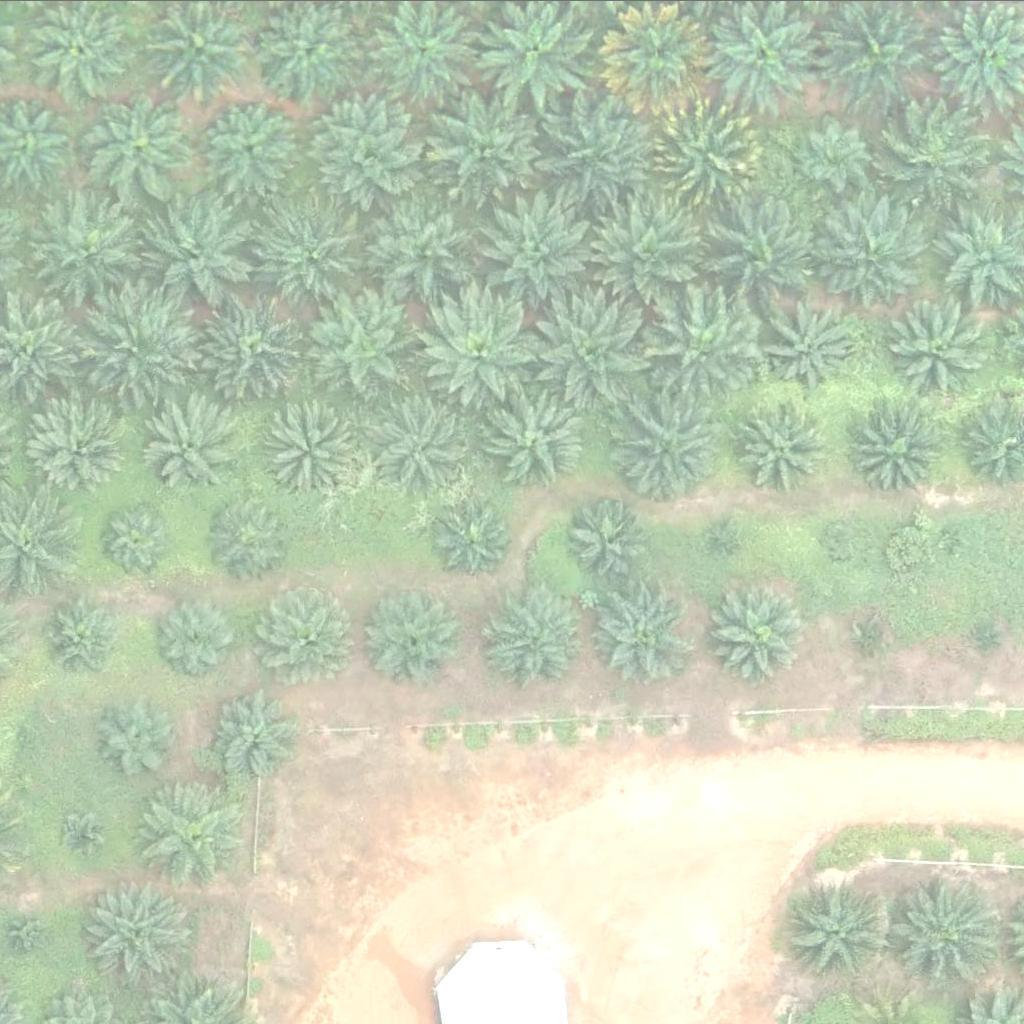Kelapa_Sawit: (610, 391, 724, 504), (81, 287, 194, 400), (198, 286, 311, 399), (29, 190, 142, 303), (143, 193, 256, 306), (254, 199, 367, 312), (369, 191, 482, 304), (309, 91, 422, 204), (423, 88, 536, 201), (541, 89, 654, 202), (651, 98, 764, 211), (821, 1, 934, 114), (135, 777, 249, 889), (538, 292, 652, 404), (708, 198, 822, 310), (811, 194, 925, 306), (644, 289, 758, 401), (85, 876, 198, 988), (307, 292, 420, 404), (428, 293, 541, 405), (480, 190, 593, 302), (83, 87, 196, 199), (595, 201, 708, 313), (888, 873, 1001, 985), (482, 591, 583, 691), (31, 399, 132, 499), (143, 393, 244, 493), (261, 398, 362, 498), (200, 93, 301, 193), (889, 298, 990, 398), (593, 583, 694, 683), (701, 585, 802, 685), (788, 883, 889, 983), (256, 581, 356, 681), (363, 586, 463, 686), (375, 388, 475, 488), (488, 386, 588, 486), (884, 102, 984, 202), (208, 684, 296, 772), (93, 691, 181, 778), (43, 592, 131, 679), (152, 595, 240, 682), (207, 493, 295, 580), (767, 301, 855, 388), (734, 401, 822, 488), (856, 408, 944, 495), (563, 495, 651, 582), (435, 500, 511, 575), (795, 118, 871, 193), (99, 502, 174, 577), (1, 904, 52, 954), (57, 810, 108, 860), (826, 519, 864, 557), (711, 519, 736, 544), (941, 523, 966, 548), (861, 623, 886, 648), (974, 623, 999, 648)
